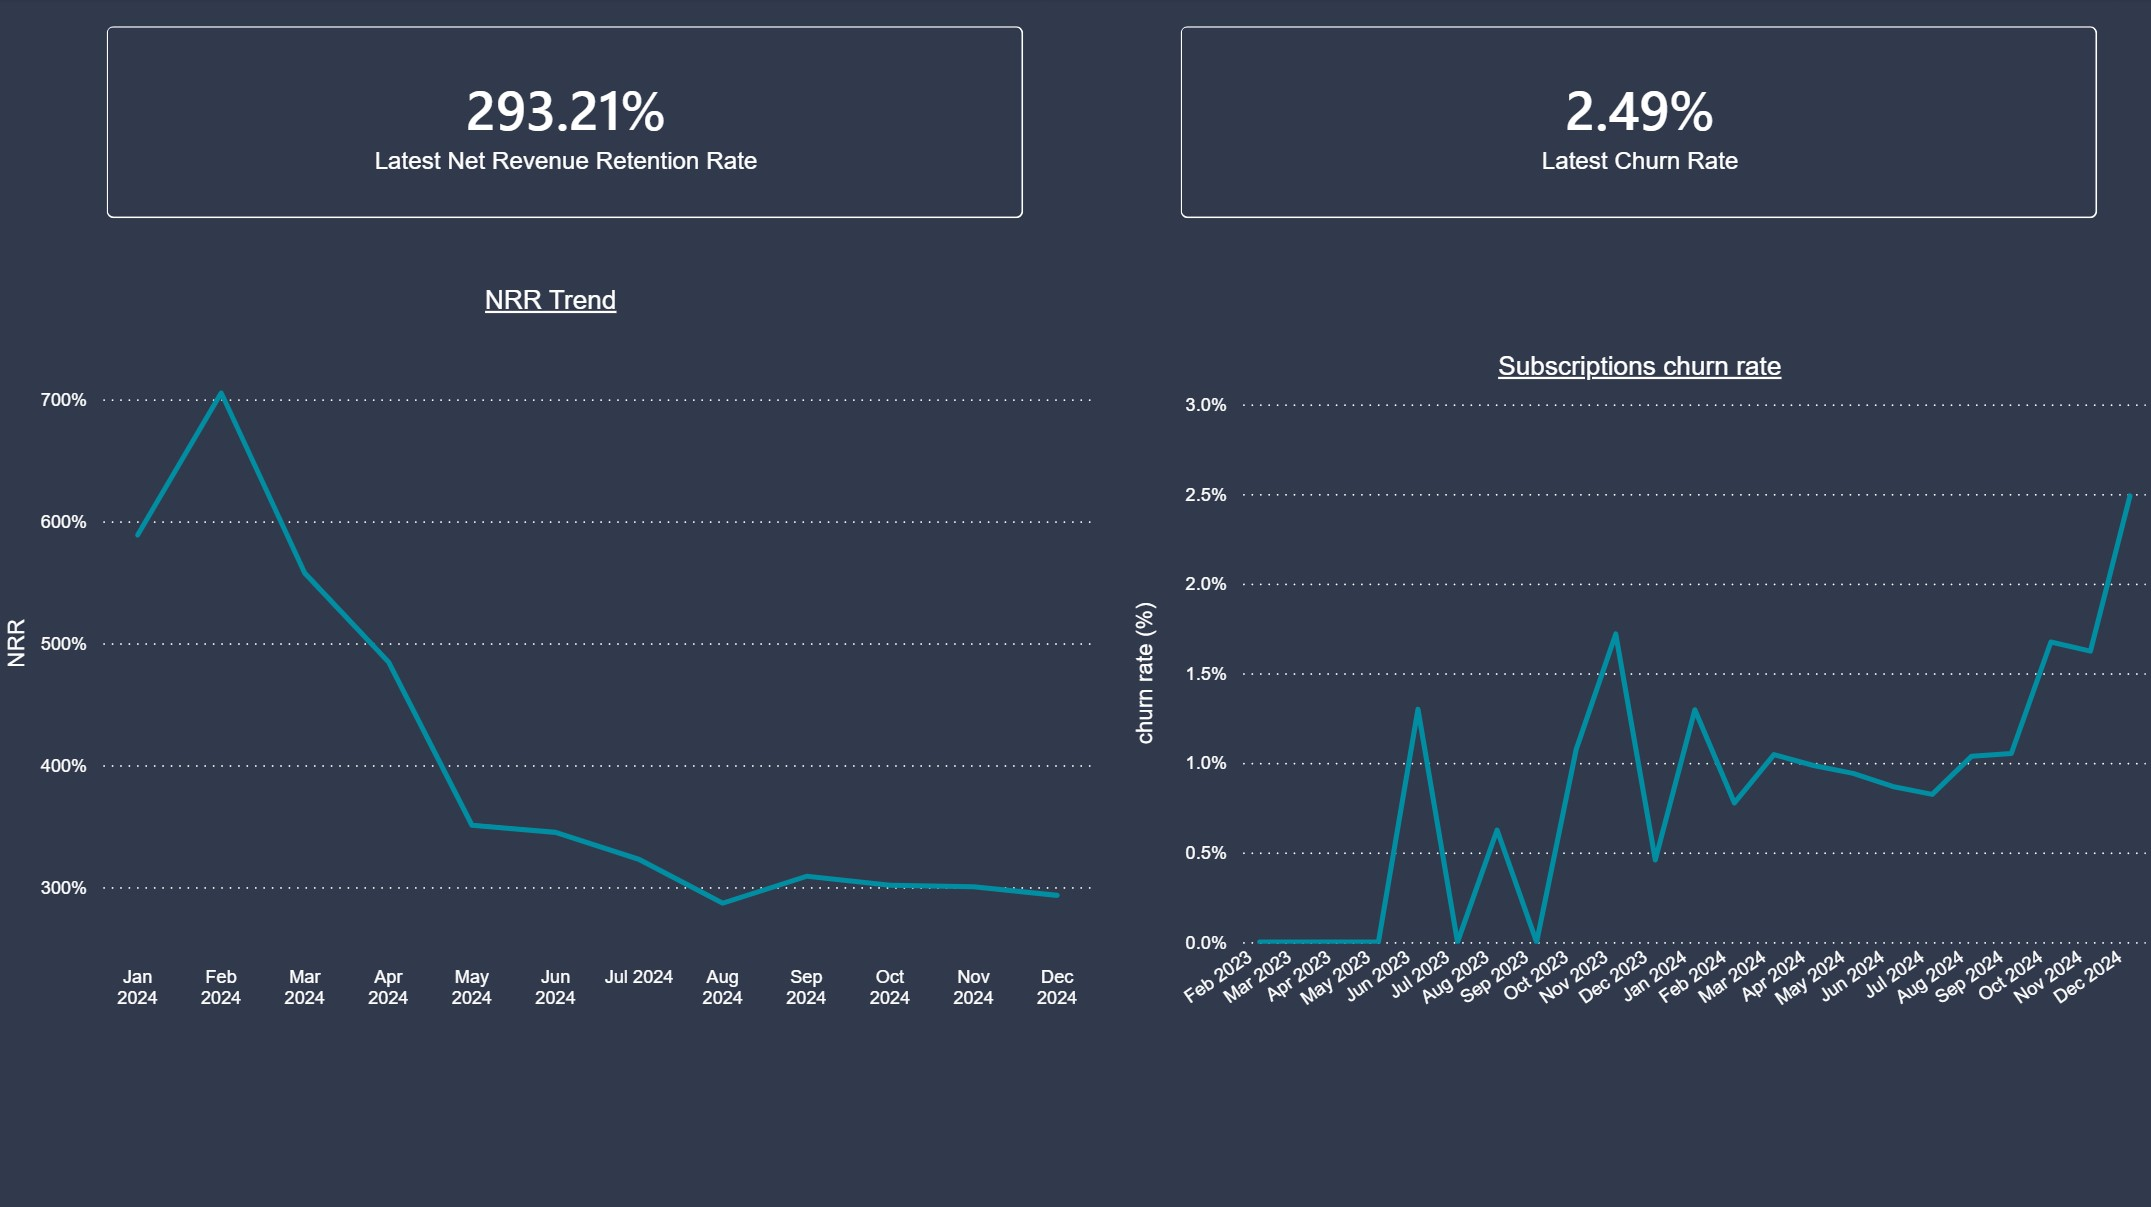

The page's visual inventory and layout, read from the dashboard file:
{"tool":"powerbi","page":{"name":"3 페이지","canvas":[1280,720],"ordinal":3},"visuals":[{"type":"cardVisual","fields":{"Data":["Avg(vw_nrr.nrr_rate)"]},"box":[47.5,0,578.8,148.8],"z":0},{"type":"lineChart","title":"NRR Trend","fields":{"Y":["Avg(vw_nrr.nrr_rate)"],"Category":["vw_nrr.Month_Display"]},"box":[0,171.2,656.2,436.2],"z":1000},{"type":"lineChart","title":"subscriptions churn rate","fields":{"Y":["Sum(vw_subscription_churn_rate.subscription_churn_rate)"],"Category":["vw_subscription_churn_rate.Month_Display"]},"box":[670,210,610,407.5],"z":2000},{"type":"cardVisual","fields":{"Data":["Sum(vw_subscription_churn_rate.subscription_churn_rate)"]},"box":[685,0,578,148.8],"z":3000}]}

Visuals, with their boxes in screenshot pixels (x1, y1, x2, y2), scaled from the page's 1280x720 canvas onto the 2151x1207 screenshot:
cardVisual - Avg(vw_nrr.nrr_rate): detection(80, 0, 1052, 249)
"NRR Trend" lineChart: detection(0, 287, 1103, 1018)
"subscriptions churn rate" lineChart: detection(1126, 352, 2150, 1035)
cardVisual - Sum(vw_subscription_churn_rate.subscription_churn_rate): detection(1151, 0, 2122, 249)
